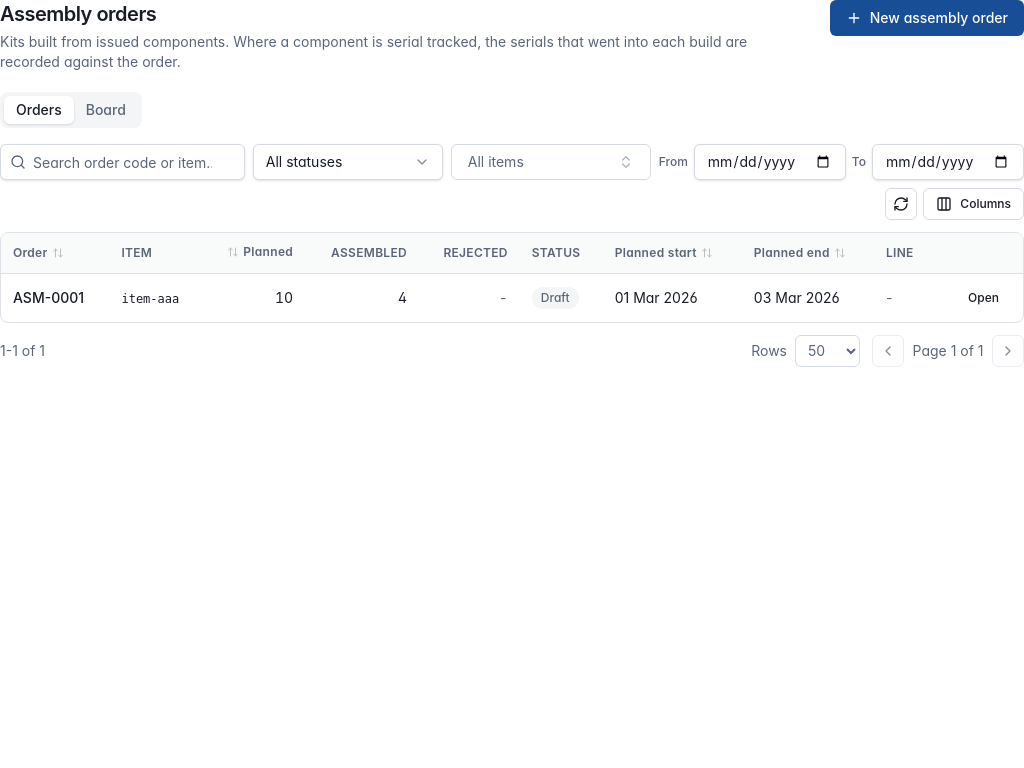
Scenario: what the order panel offers, status by status › offers the draft commands on a DRAFT, and nothing that needs stock
The width and height of the screenshot is (1024, 768).
Expected: the button "ASM-0001" is shown, [13, 288, 84, 308]
Click the button "Open". click: (984, 298)
box: [956, 282, 1011, 314]
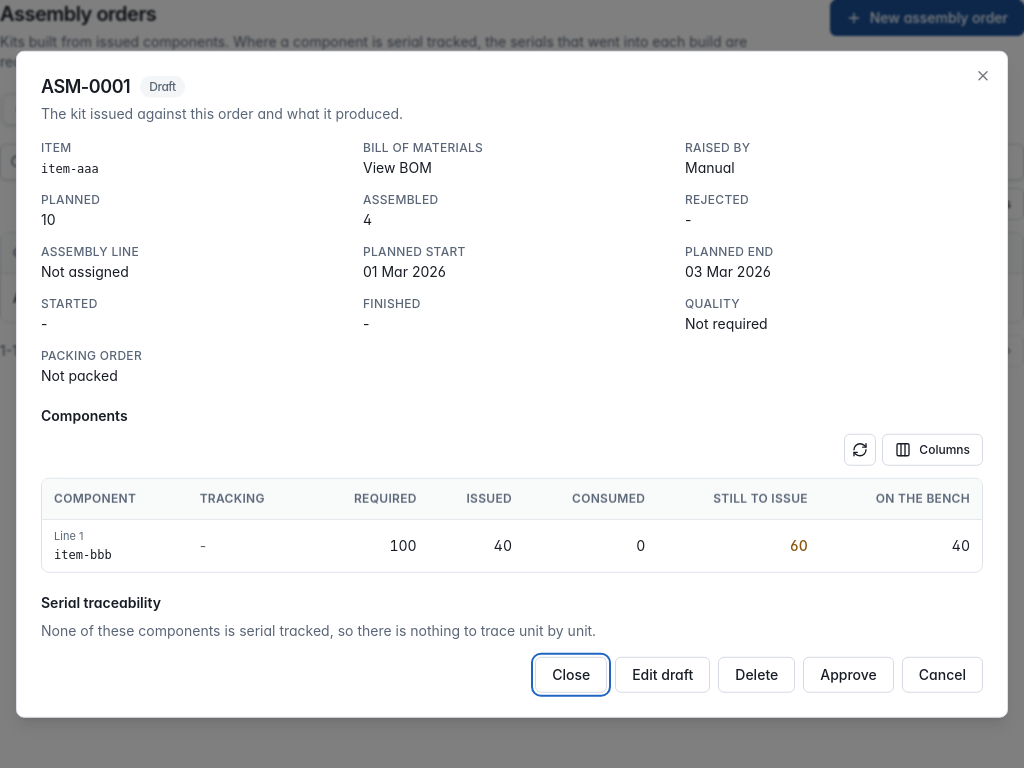
Now the dialog is shown
Now the button "Approve" is shown, box [803, 656, 894, 692]
Now the button "Edit draft" is shown, box [615, 656, 710, 692]
